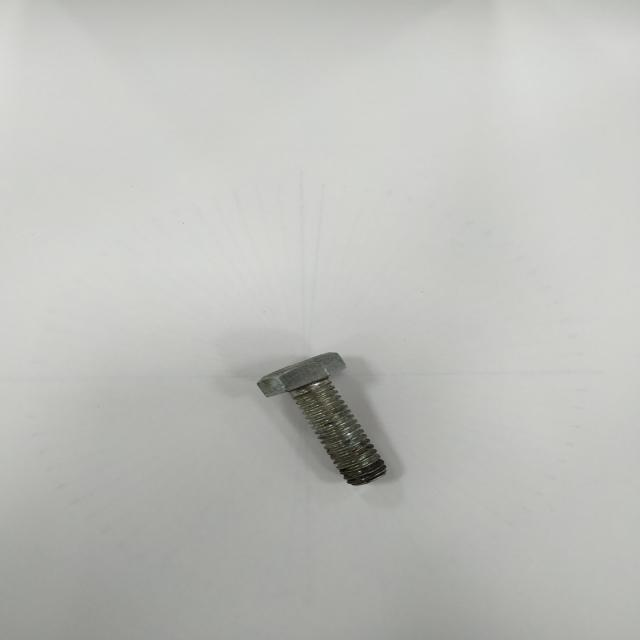Bolt: (258, 352, 385, 485)
